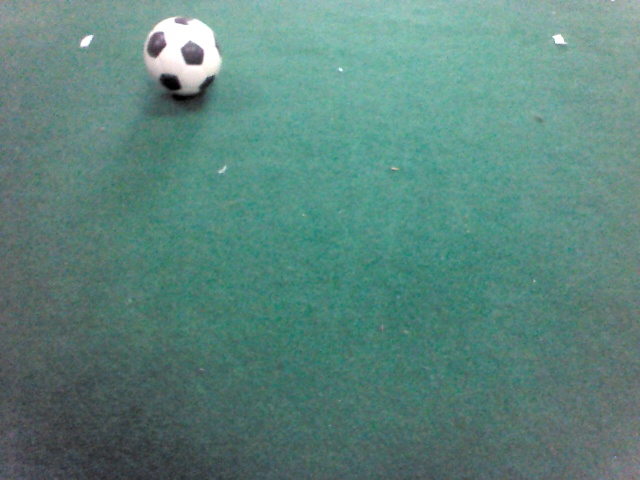ball: (141, 14, 222, 100)
